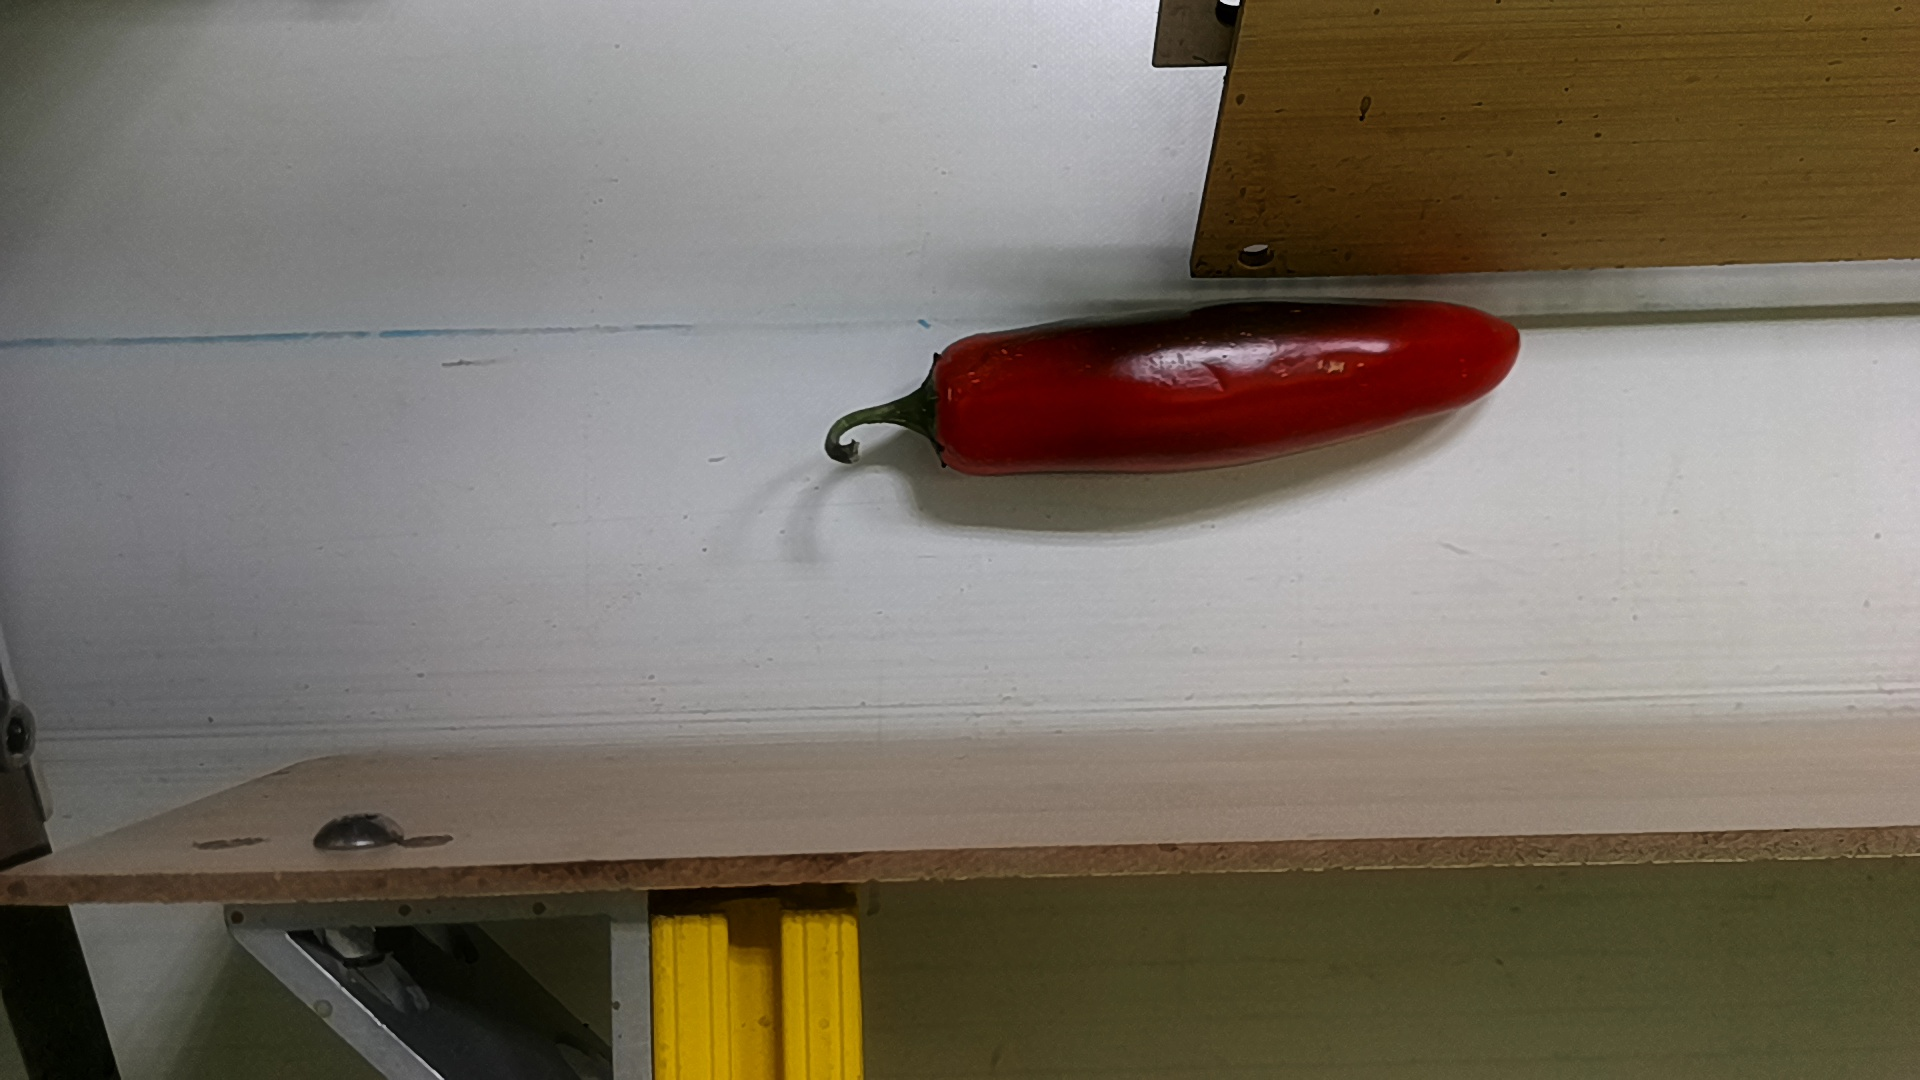Cut Point: (899, 326, 997, 487)
